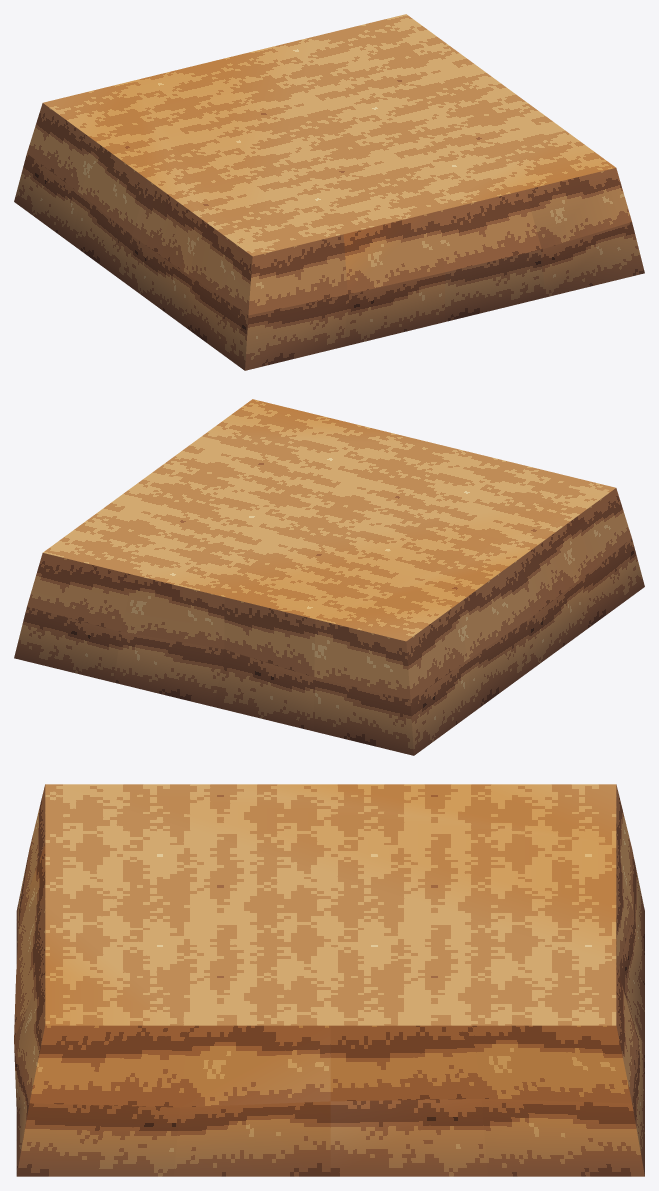
Rendered from land.terrace.glb.
3 views of the same model, one above another, from view 1: azimuth 30°, elevation 25°; view 2: azimuth 150°, elevation 25°; view 3: azimuth 270°, elevation 25° (orthographic). The views are drawn at different scales.
Parts seen in each view (by area): view 1: kit_terrace; view 2: kit_terrace; view 3: kit_terrace.
Part boxes in pixels (x1,y1,x2,y2): kit_terrace: (14,14,644,370); kit_terrace: (14,399,644,755); kit_terrace: (14,784,644,1176).
Bounding box in the file's own units: 8.8 × 2.15 × 8.84.
2 materials, 2 textured.
